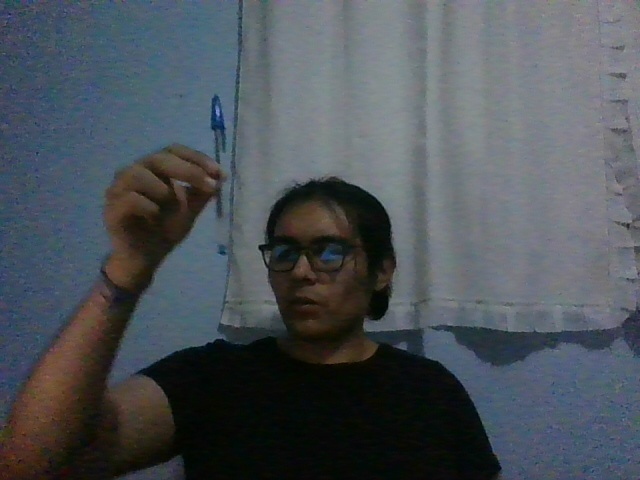pluma: (208, 94, 227, 256)
